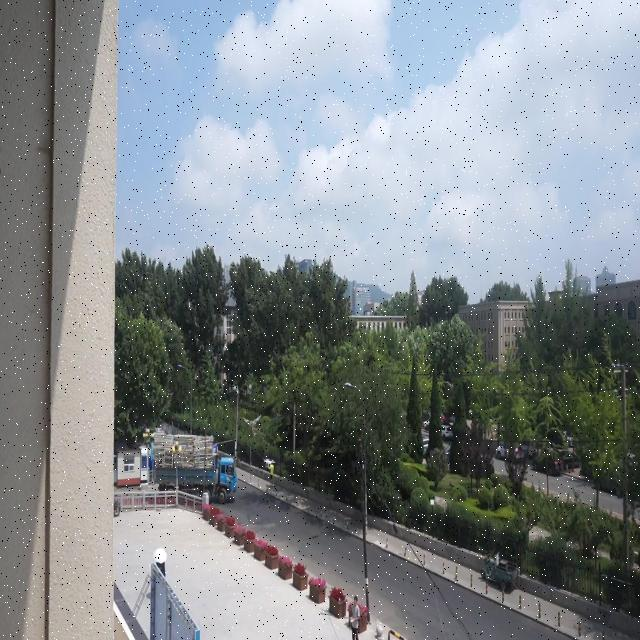UAV: (264, 458, 276, 468)
